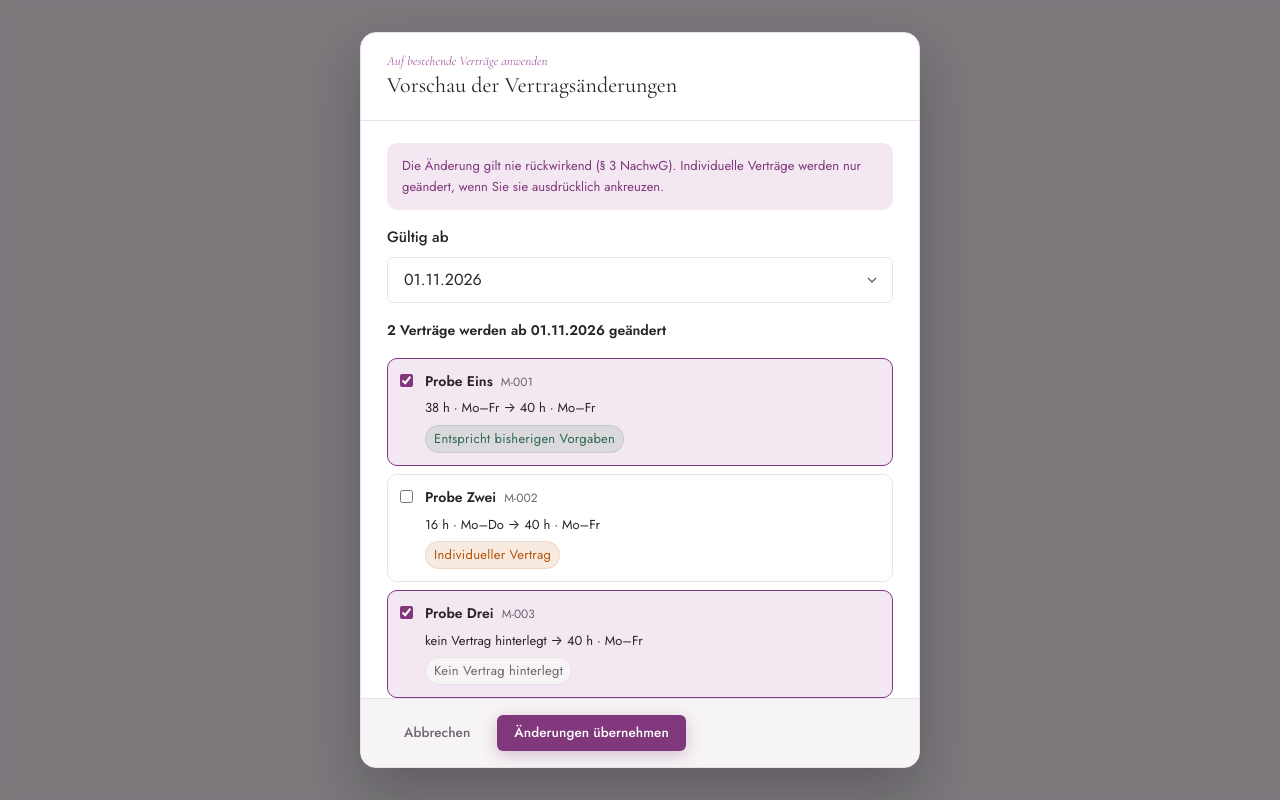
it: BulkApplyDialog › blocks confirm at zero selected and counts a ticked individual contract
This screenshot has width=1280, height=800.
expect the text "Probe Eins" is shown: met, box top-left (425, 371), bottom-right (493, 392)
Click the checkbox labelled "Probe Eins" at (406, 380), box top-left (400, 374), bottom-right (413, 387)
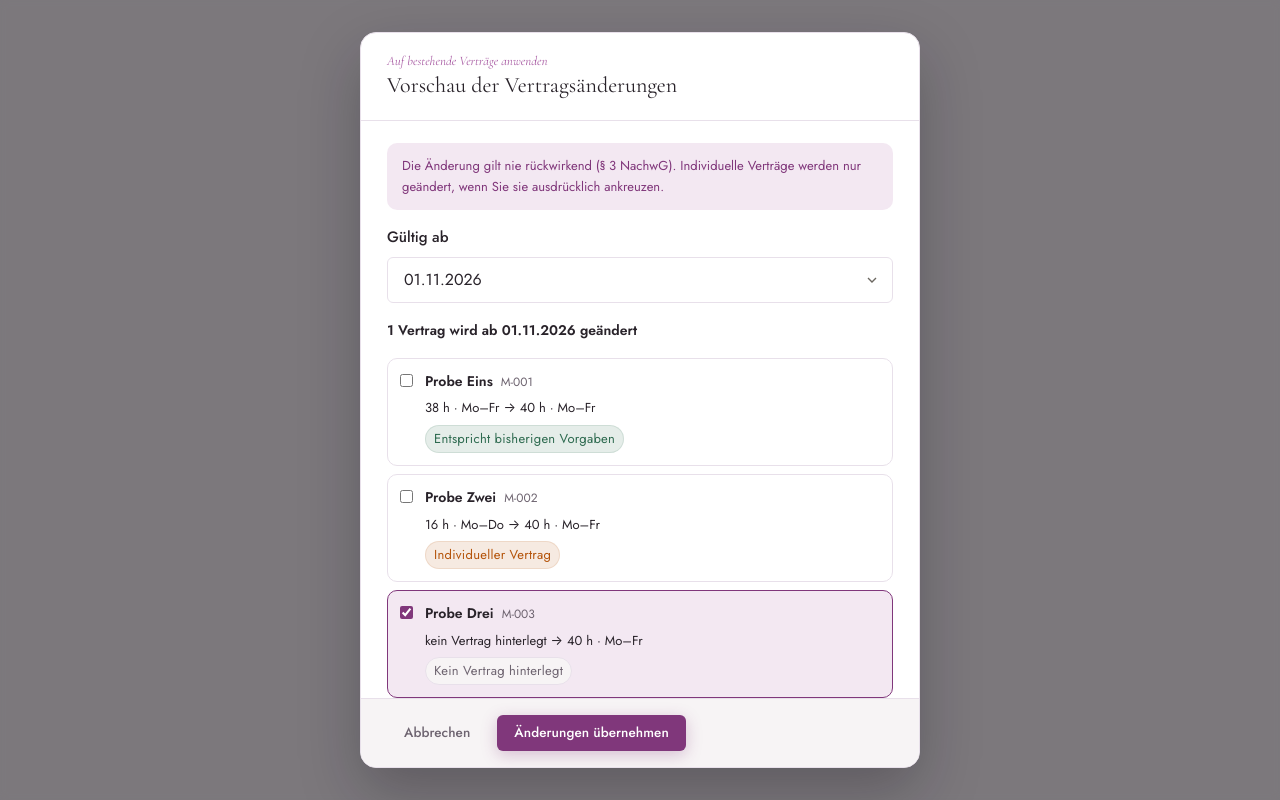
Click the checkbox labelled "Probe Drei" at (406, 612), box top-left (400, 606), bottom-right (413, 619)
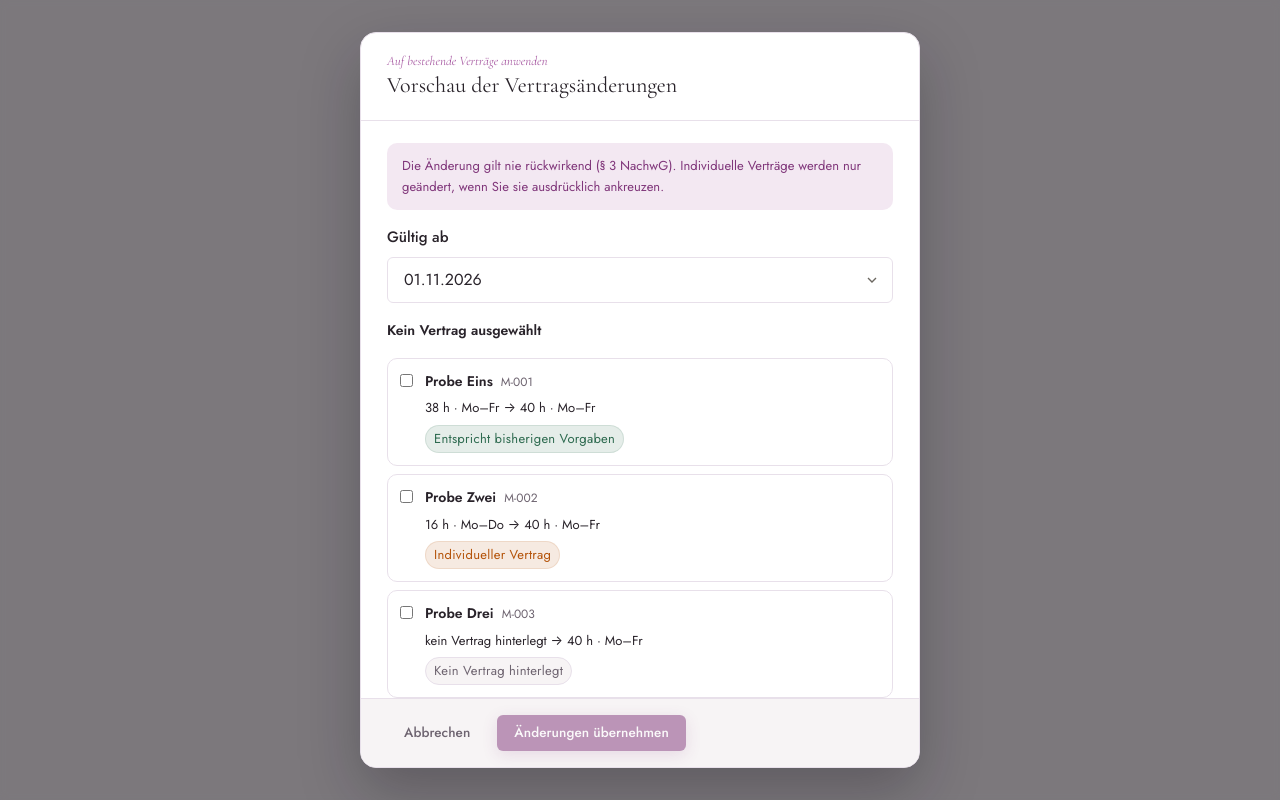
expect the button "Änderungen übernehmen" is disabled: met, box top-left (497, 715), bottom-right (686, 751)
expect the text "Kein Vertrag ausgewählt" is shown: met, box top-left (387, 320), bottom-right (541, 340)
Click the checkbox labelled "Probe Zwei" at (406, 496), box top-left (400, 490), bottom-right (413, 503)
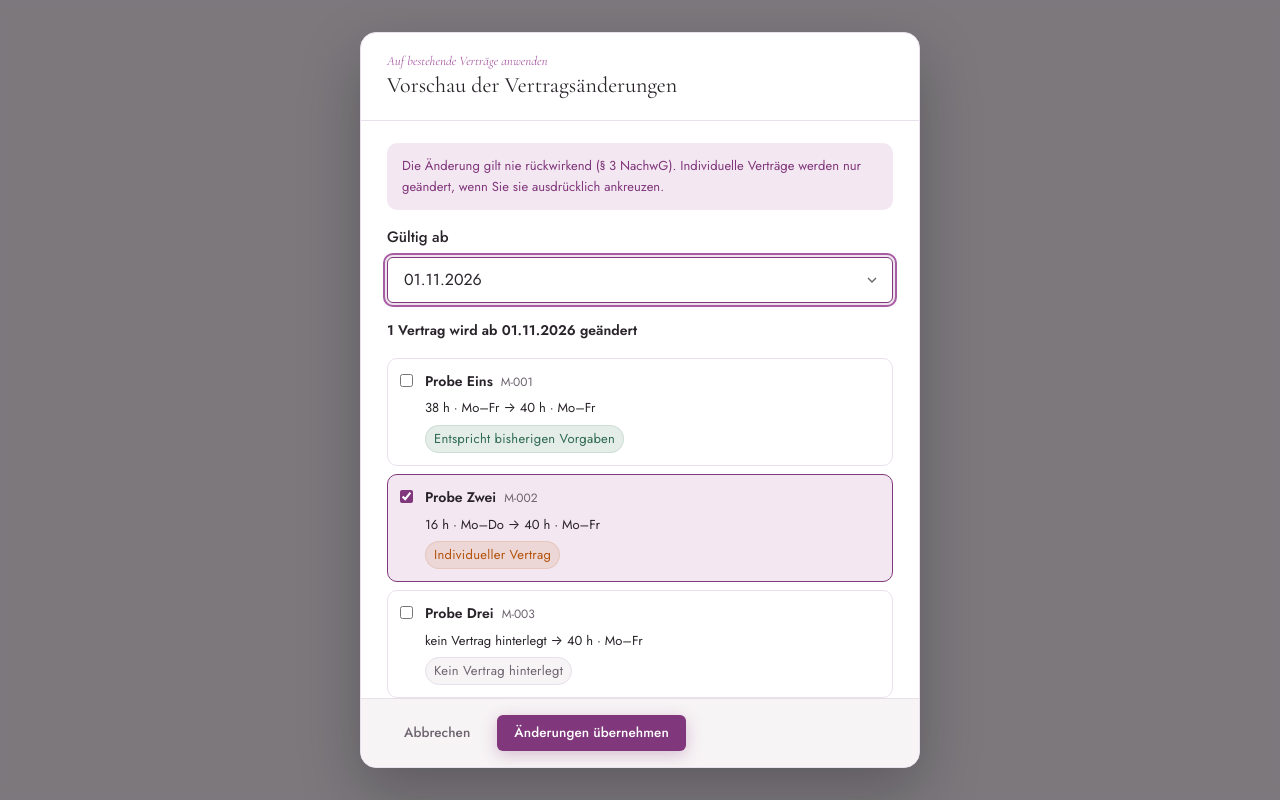
expect the button "Änderungen übernehmen" is enabled: met, box top-left (497, 715), bottom-right (686, 751)
expect the text "1 Vertrag wird ab 01.11.2026 geändert" is shown: met, box top-left (387, 320), bottom-right (637, 340)
